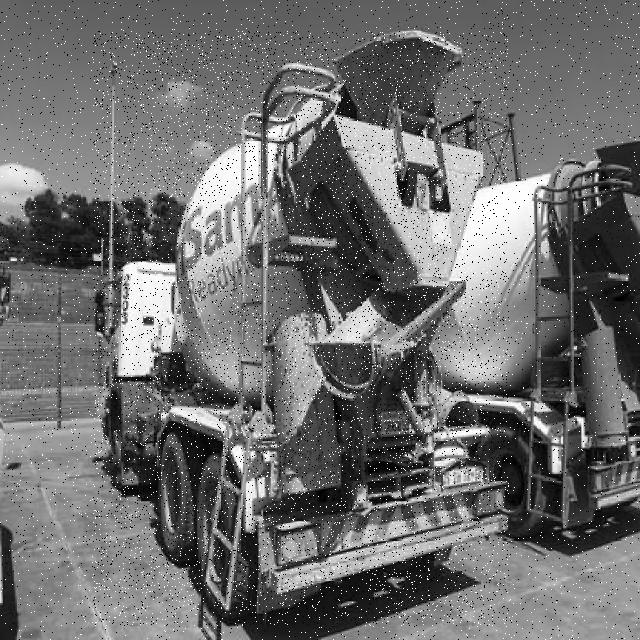Concrete Mixer: (93, 31, 509, 626)
